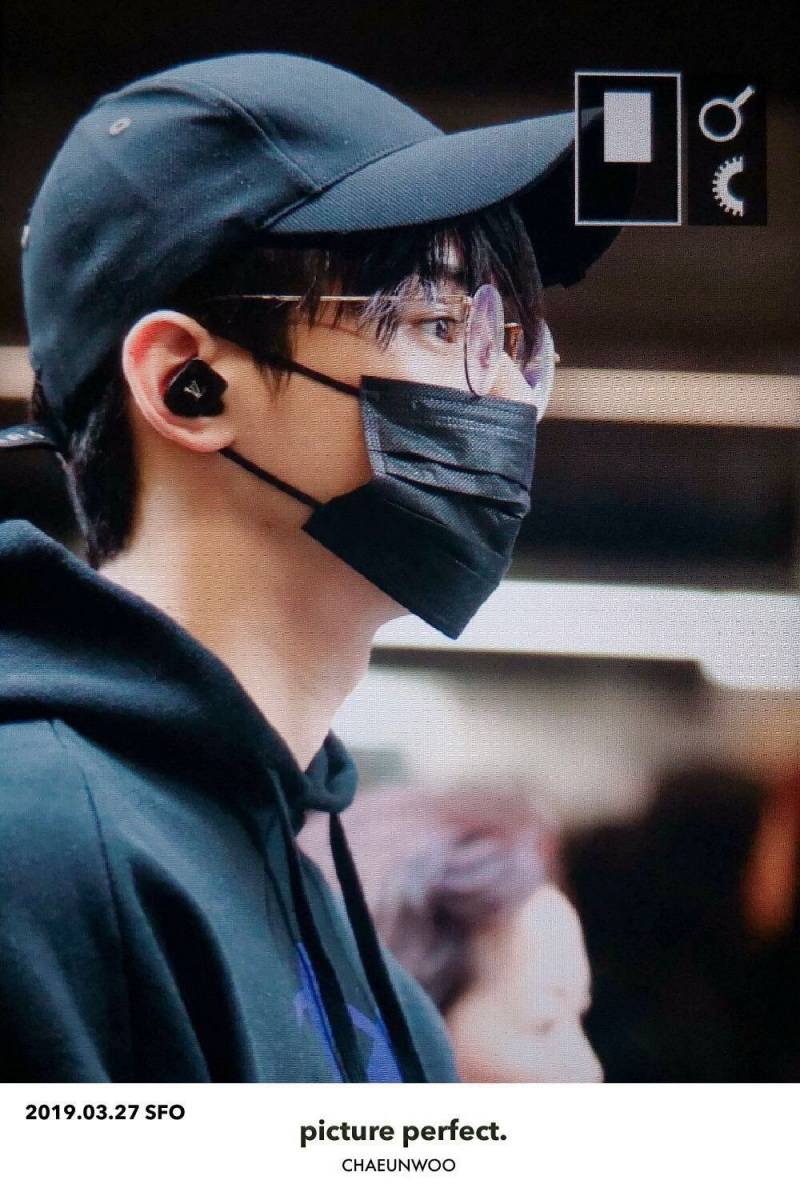earphone: (119, 310, 247, 454)
